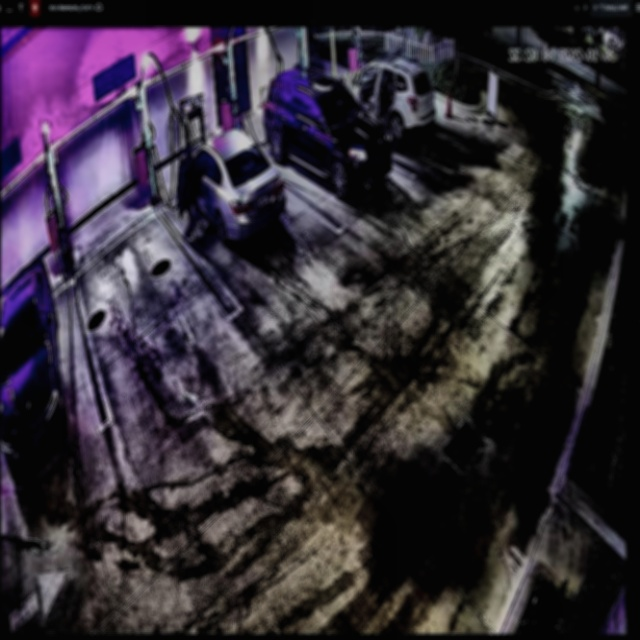Car: (264, 67, 393, 199), (176, 127, 286, 244)
